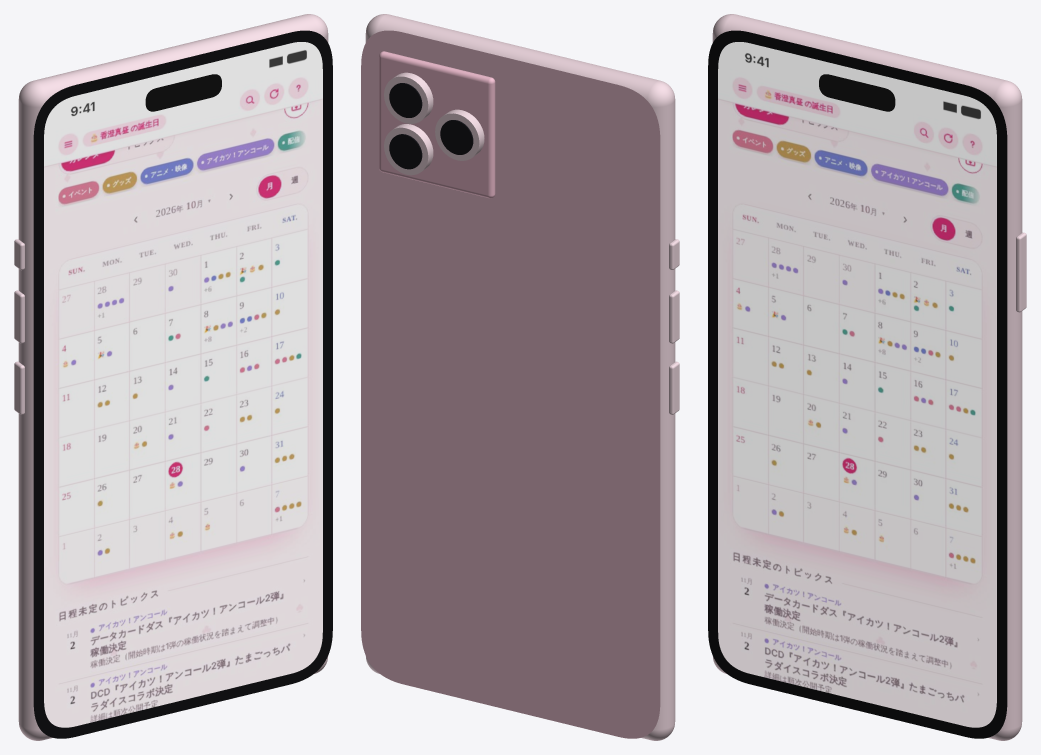
File: phone.glb
3 views of the same model, side by side, from view 1: azimuth 30°, elevation 25°; view 2: azimuth 150°, elevation 25°; view 3: azimuth 330°, elevation 25° (orthographic).
Visible parts, largest first — view 1: Screen, FrontGlass, Body, Island, Button2, Button3; view 2: BackGlass, Body, CameraBump, LensRing0, LensRing1, LensRing2, Lens1, Lens2, Lens0, Button2, Button3; view 3: Screen, FrontGlass, Body, Island, Button0.
Part boxes in pixels (x1,y1,x2,y2): Screen: (44, 42, 322, 727); FrontGlass: (33, 30, 332, 738); Body: (18, 14, 328, 740); Island: (145, 74, 221, 111); Button2: (14, 290, 24, 343); Button3: (14, 361, 24, 414); BackGlass: (361, 30, 660, 738); Body: (365, 14, 675, 740); CameraBump: (379, 51, 495, 198); LensRing0: (384, 72, 433, 123); LensRing1: (384, 124, 433, 175); LensRing2: (435, 109, 484, 160); Lens1: (389, 134, 422, 169); Lens2: (440, 120, 473, 154); Lens0: (389, 83, 422, 117); Button2: (669, 290, 679, 343); Button3: (669, 361, 679, 414); Screen: (718, 42, 996, 727); FrontGlass: (708, 30, 1007, 738); Body: (712, 14, 1022, 740); Island: (819, 74, 895, 111); Button0: (1016, 232, 1026, 312).
Size of the model in its own units: 0.735 by 1.48 by 0.125.
Materials: 9 (1 with a texture image).
